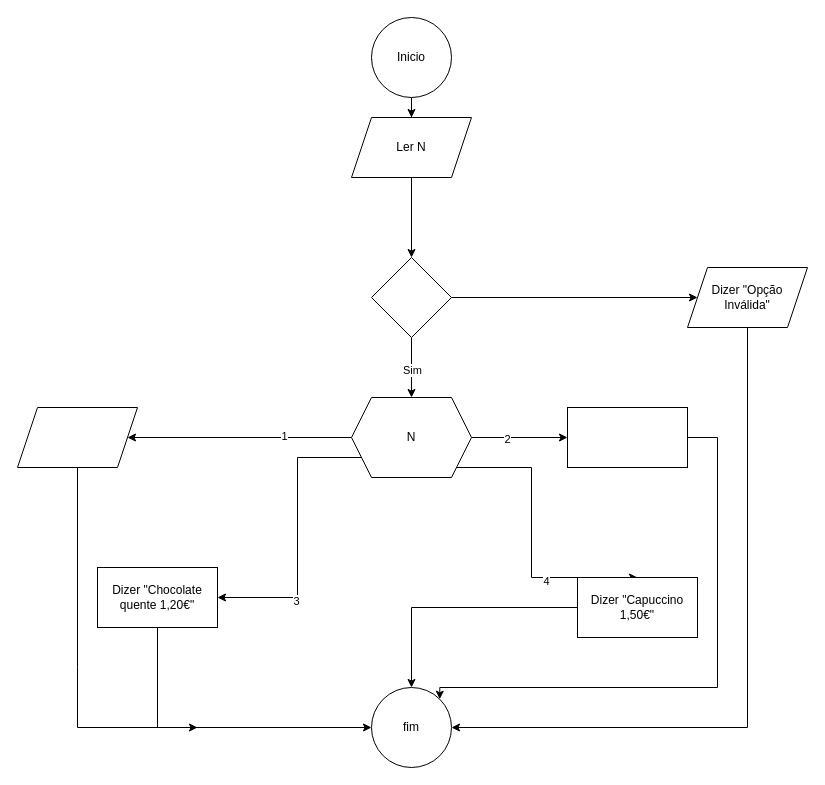
Image size: 825x785. Some labels were removed from this diagram. Each missing label, with the box of its shape:
Dizer "café custo 0,80€": (16, 406, 138, 468)
Dizer "Chá 1€": (566, 406, 688, 468)
N>0 e N<5: (370, 256, 452, 338)
